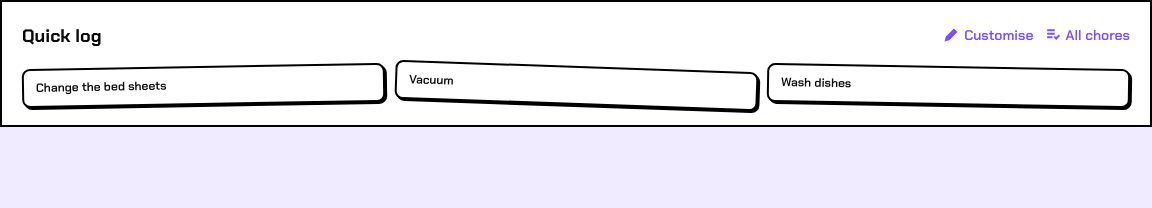
the undo window › undo cancels it, and nothing ever reaches the server
This screenshot has width=1152, height=208.
Click the button "Wash dishes".
click(816, 83)  # box [767,63,1130,108]
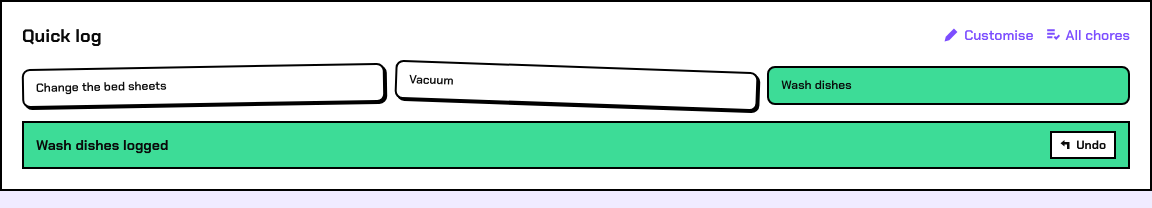
Click the button "Undo".
click(1083, 145)  # box [1050,131,1116,159]
Wait 10000 ms
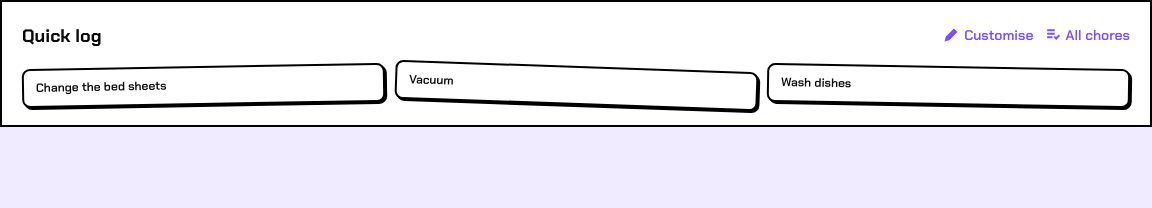
Now the text "Wash dishes logged" is gone
